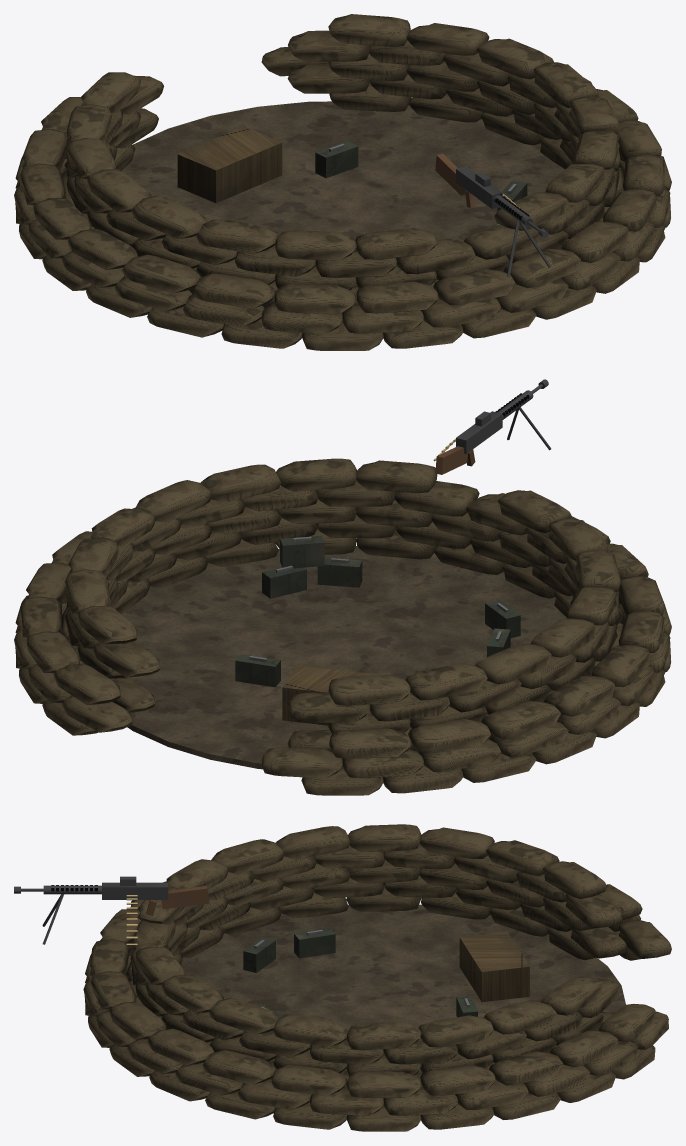
Rendered from mg_nest.glb.
3 renders of one model, top to bottom at view 1: azimuth 30°, elevation 25°; view 2: azimuth 150°, elevation 25°; view 3: azimuth 270°, elevation 25°, orthographic. The views are drawn at different scales.
Visible parts, largest first — view 1: MGNest; view 2: MGNest; view 3: MGNest.
Part boxes in pixels (left/top/right/bottom): MGNest: left=14, top=14, right=671, bottom=350; MGNest: left=14, top=379, right=671, bottom=795; MGNest: left=14, top=824, right=671, bottom=1131.
Bounding box in the file's own units: 4.35 × 1.05 × 4.76.
9 materials, 4 textured.
